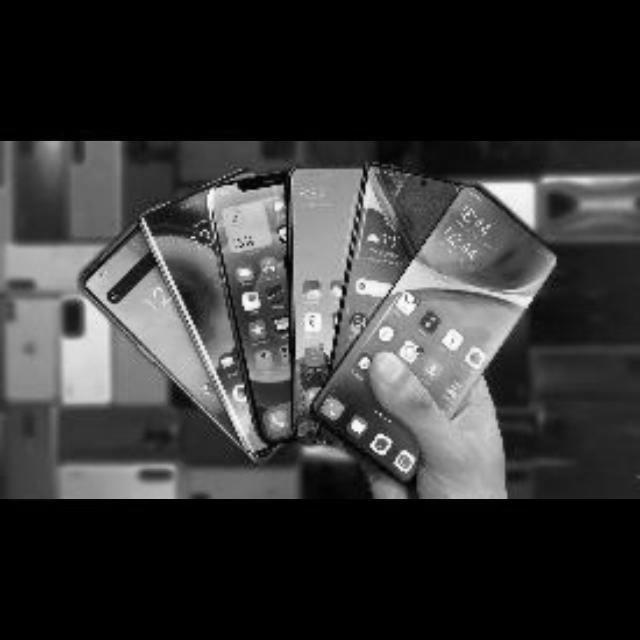fake: (73, 151, 585, 491)
